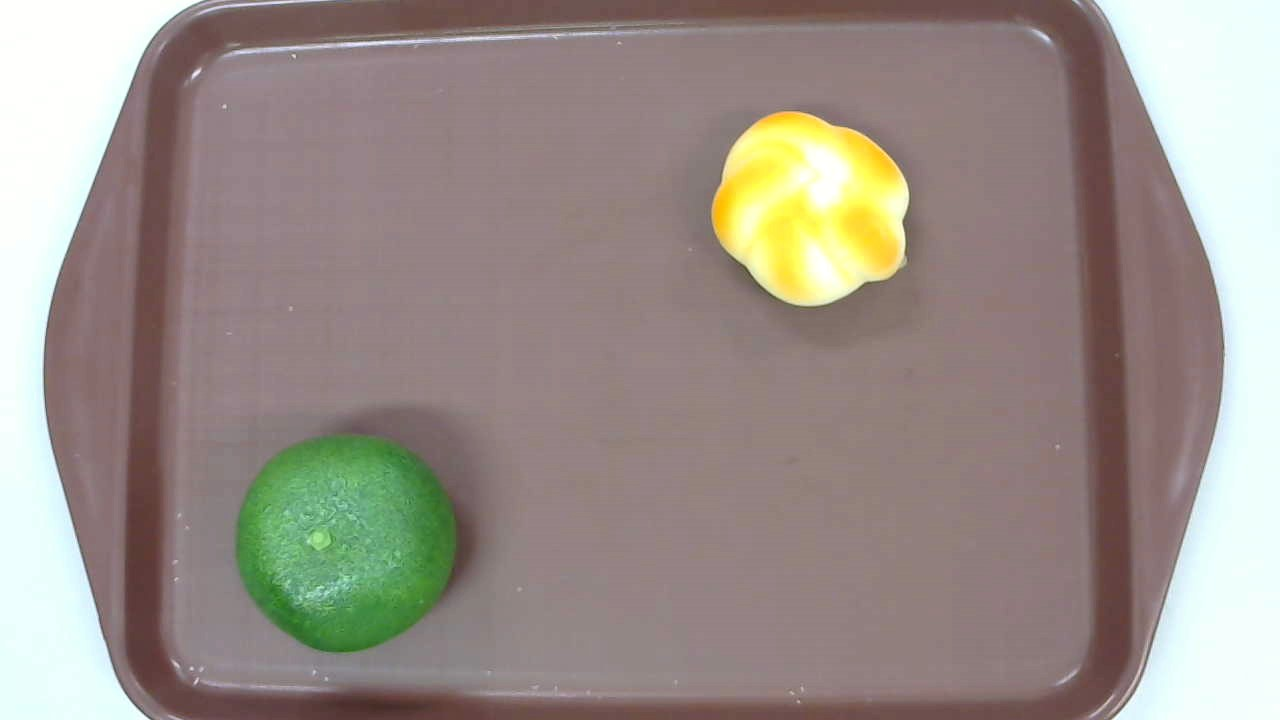green orange: (235, 432, 456, 653)
twist bread: (710, 111, 910, 309)
